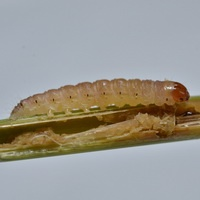insect: (0, 79, 199, 160)
